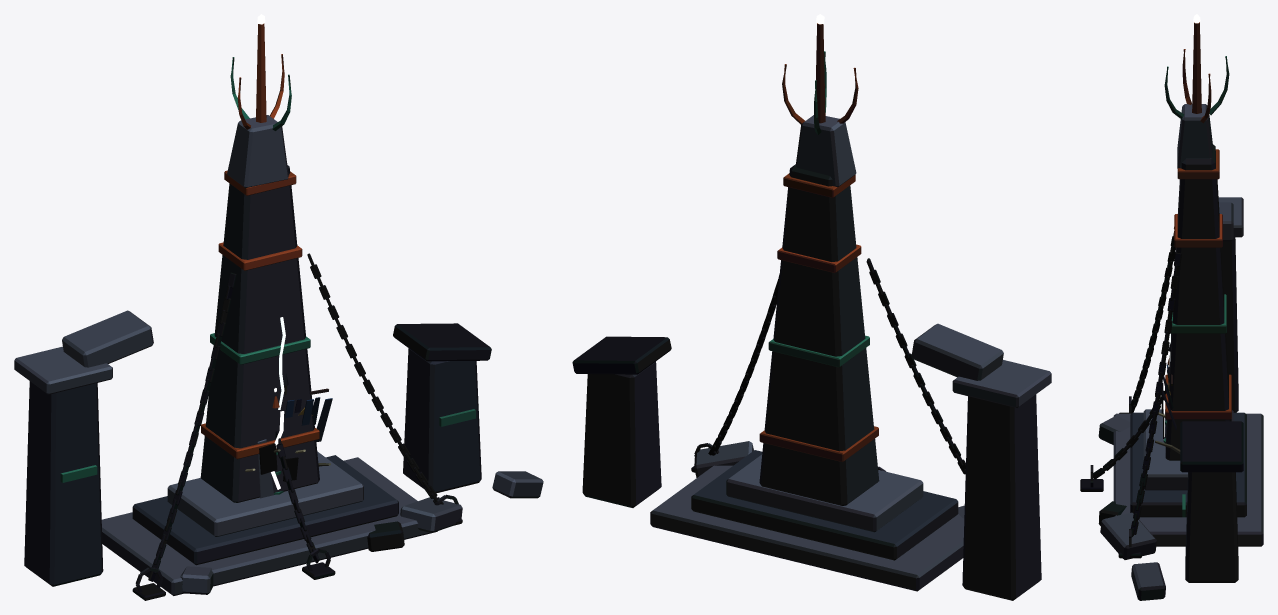
Rendered from hoard_storm_kit.glb.
3 renders of one model, left to right at view 1: azimuth 30°, elevation 25°; view 2: azimuth 150°, elevation 25°; view 3: azimuth 270°, elevation 25°, orthographic. The views are drawn at different scales.
Visible parts, largest first — view 1: Kit_LightningSpire, Kit_GroundingChain, Kit_SplitMenhir, Kit_TornBanner; view 2: Kit_LightningSpire; view 3: Kit_LightningSpire, Kit_GroundingChain, Kit_TornBanner.
Part boxes in pixels (bbox=[...]): Kit_LightningSpire: bbox=[14, 14, 543, 600]; Kit_GroundingChain: bbox=[275, 431, 335, 579]; Kit_SplitMenhir: bbox=[257, 439, 298, 498]; Kit_TornBanner: bbox=[283, 373, 332, 442]; Kit_LightningSpire: bbox=[572, 14, 1051, 600]; Kit_LightningSpire: bbox=[1098, 14, 1263, 600]; Kit_GroundingChain: bbox=[1080, 384, 1168, 491]; Kit_TornBanner: bbox=[1162, 341, 1176, 429].
Bounding box in the file's own units: 30.08 × 31.64 × 11.
